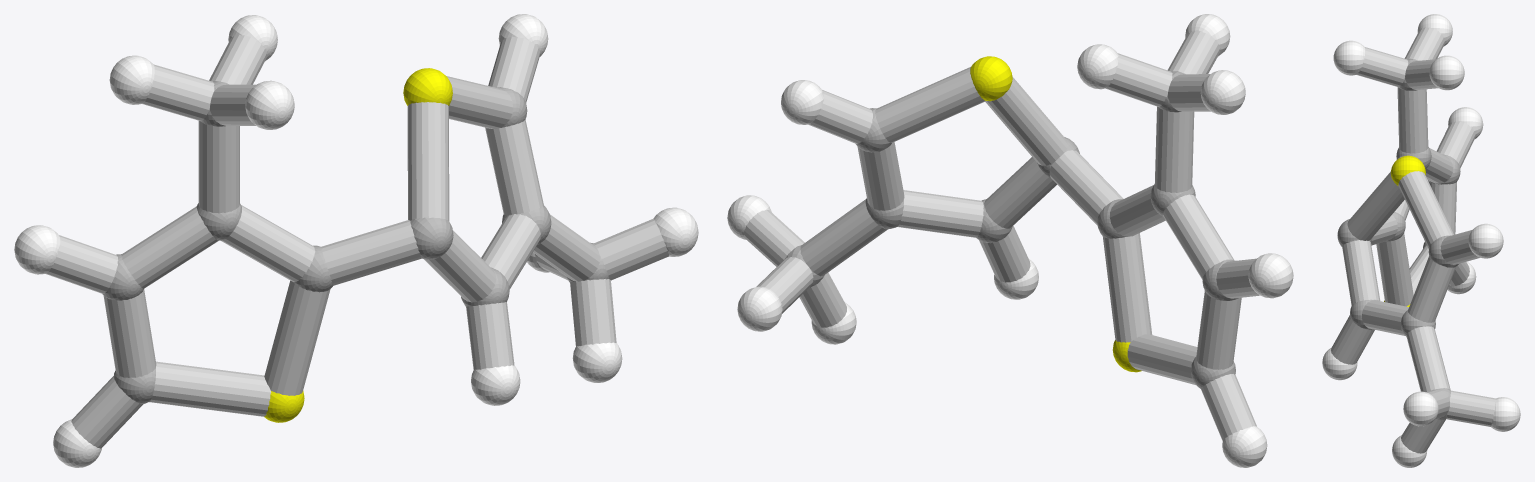
The model's file is Methylthiophene_Phi_60_Theta_350_Methylthiophene.glb.
3 renders of one model, left to right at view 1: azimuth 30°, elevation 25°; view 2: azimuth 150°, elevation 25°; view 3: azimuth 270°, elevation 25°, orthographic. The views are drawn at different scales.
Parts seen in each view (by area): view 1: grp7965, grp3621, grp1, grp7241; view 2: grp7965, grp3621, grp1, grp7241; view 3: grp7965, grp3621, grp1, grp7241.
Boxes of the visible parts, bbox=[...] form: grp7965: bbox=[45, 35, 669, 448]; grp3621: bbox=[14, 14, 698, 467]; grp1: bbox=[102, 81, 609, 403]; grp7241: bbox=[264, 68, 452, 422]; grp7965: bbox=[743, 31, 1259, 440]; grp3621: bbox=[727, 14, 1293, 467]; grp1: bbox=[785, 71, 1238, 388]; grp7241: bbox=[970, 56, 1141, 372]; grp7965: bbox=[1331, 27, 1495, 453]; grp3621: bbox=[1322, 14, 1520, 467]; grp1: bbox=[1337, 58, 1460, 420]; grp7241: bbox=[1384, 155, 1425, 306].
Bounding box in the file's own units: 9.03 × 5.63 × 3.38.
